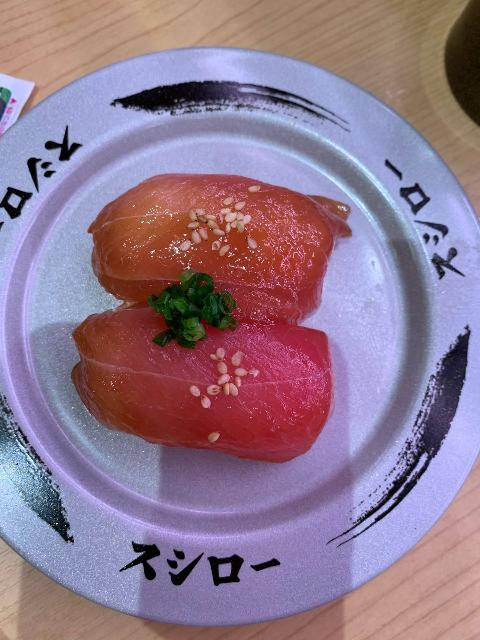janwhite: (0, 80, 455, 547)
